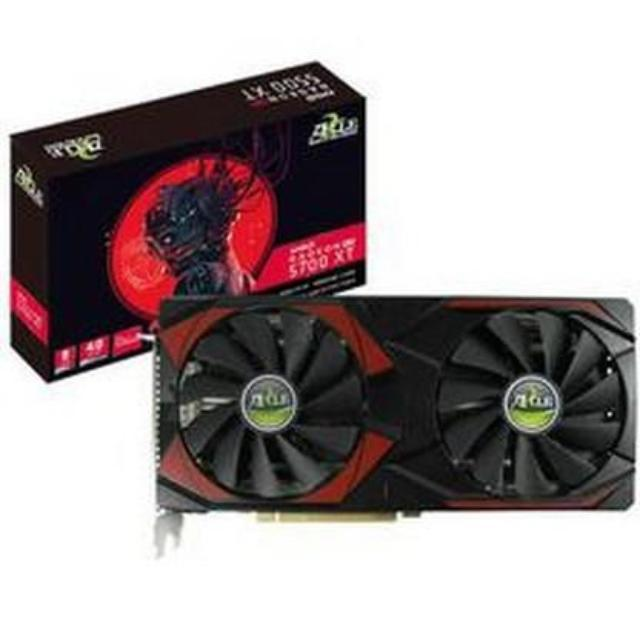GPU: (146, 299, 640, 530)
